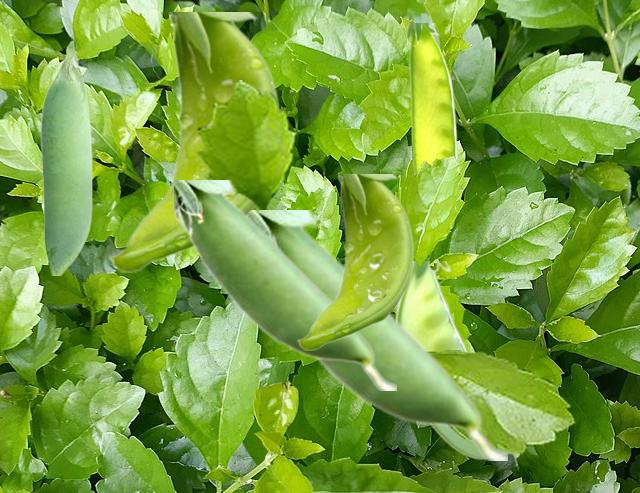pea: (250, 210, 506, 459), (174, 180, 395, 389), (108, 12, 279, 271), (395, 261, 518, 470), (296, 174, 412, 349), (40, 40, 91, 274), (407, 23, 456, 226)
